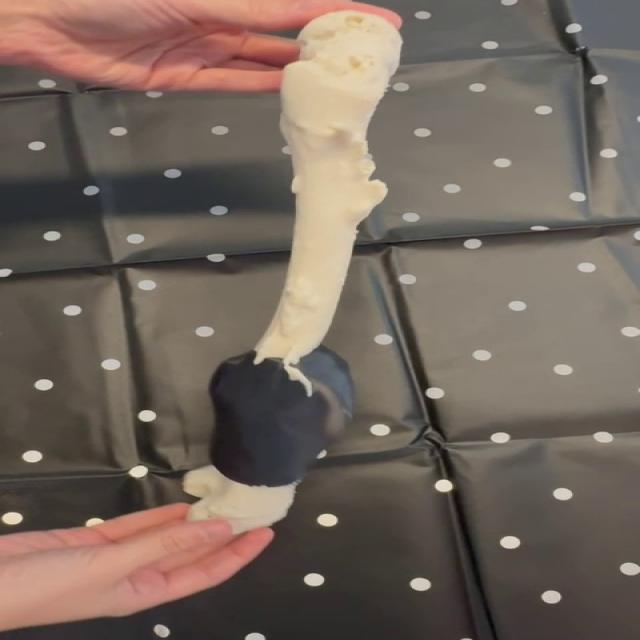bones: (183, 10, 402, 533)
